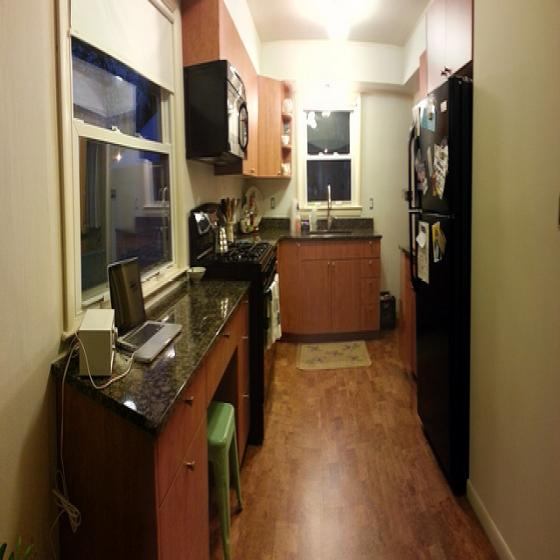bottle: (289, 198, 297, 235), (295, 204, 301, 235), (312, 203, 317, 230)
bowl: (188, 266, 206, 283), (282, 99, 294, 114), (281, 135, 290, 145)
chair: (207, 400, 243, 560)
cup: (281, 163, 291, 175), (281, 135, 290, 146)
laptop: (108, 258, 182, 362)
microwave: (183, 60, 248, 167)
oven: (189, 201, 279, 398)
potted plant: (0, 539, 37, 560)
refrigerator: (408, 76, 474, 495)
sink: (307, 229, 353, 236)
spoon: (231, 196, 237, 220), (226, 196, 231, 223)
